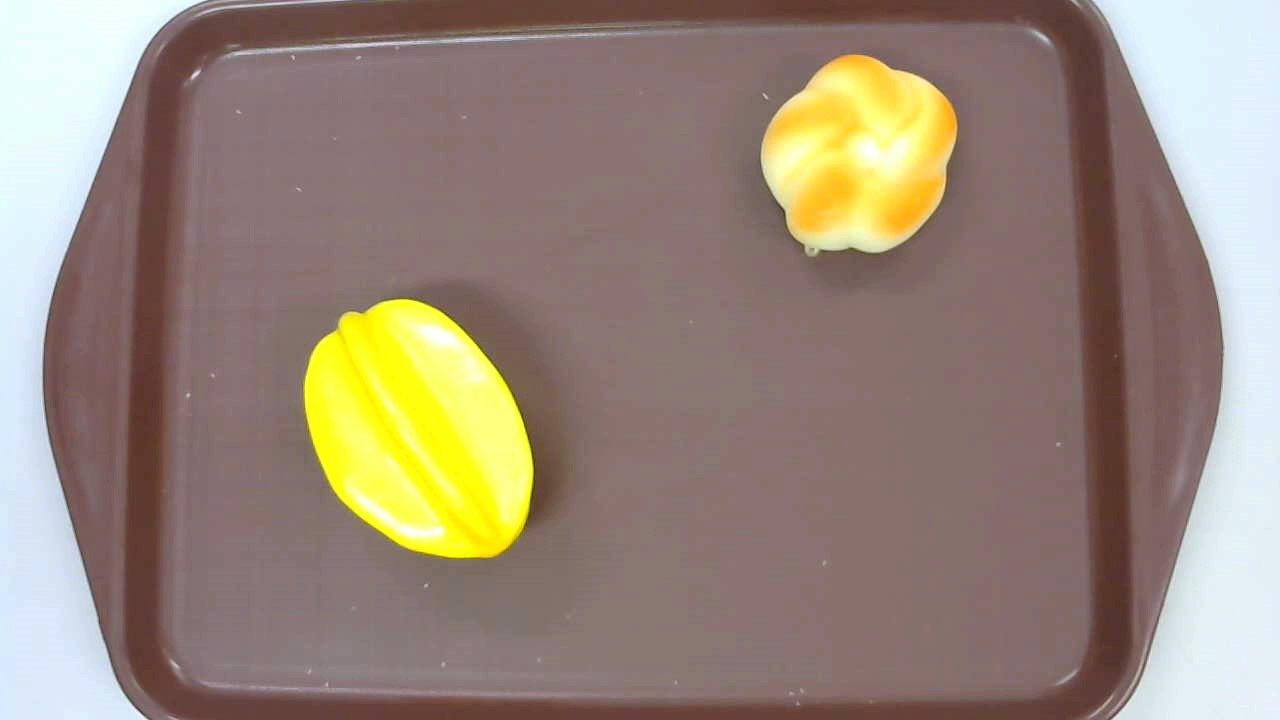star fruit: (302, 297, 532, 558)
twist bread: (760, 55, 958, 256)
